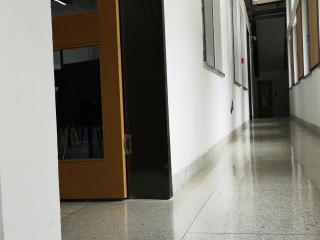room: (50, 2, 176, 205)
